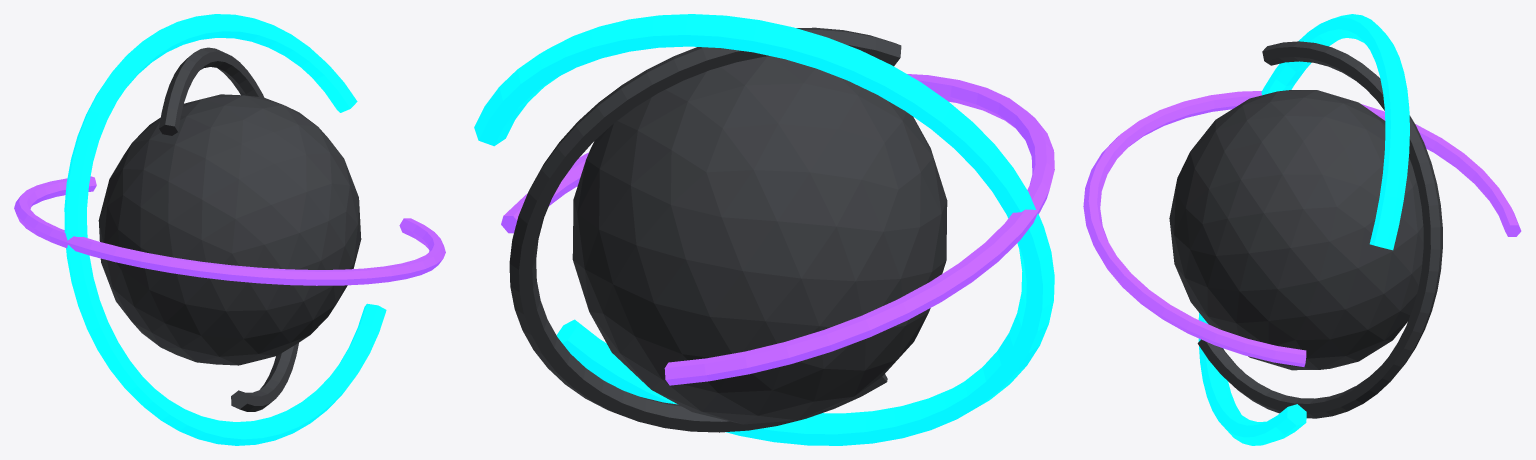
The model's file is ai-core.glb.
3 views of the same model, side by side, from view 1: azimuth 30°, elevation 25°; view 2: azimuth 150°, elevation 25°; view 3: azimuth 270°, elevation 25° (orthographic). The views are drawn at different scales.
Parts seen in each view (by area): view 1: AI_Core; view 2: AI_Core; view 3: AI_Core.
Boxes of the visible parts, bbox=[...] form: AI_Core: bbox=[14, 14, 445, 445]; AI_Core: bbox=[474, 14, 1054, 445]; AI_Core: bbox=[1083, 14, 1521, 445].
Bounding box in the file's own units: 1.95 × 1.84 × 1.96.
